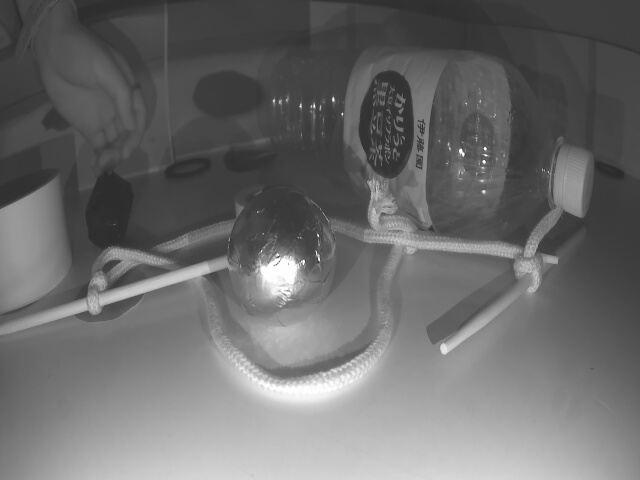Dead: (88, 175, 134, 243)
Live: (229, 190, 335, 328)
